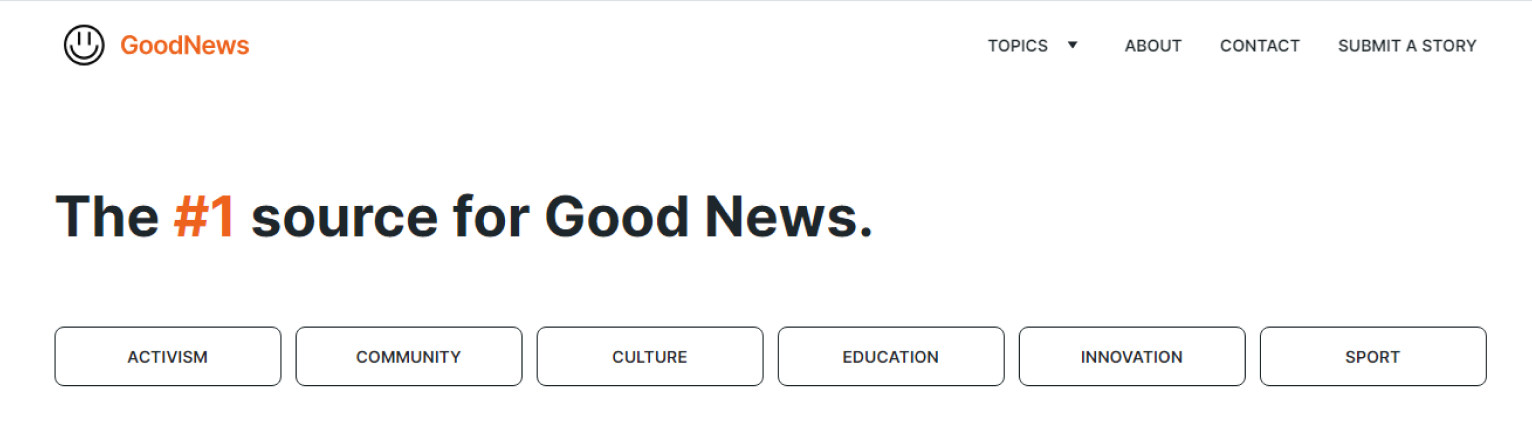menu-bar: (17, 14, 1503, 418)
